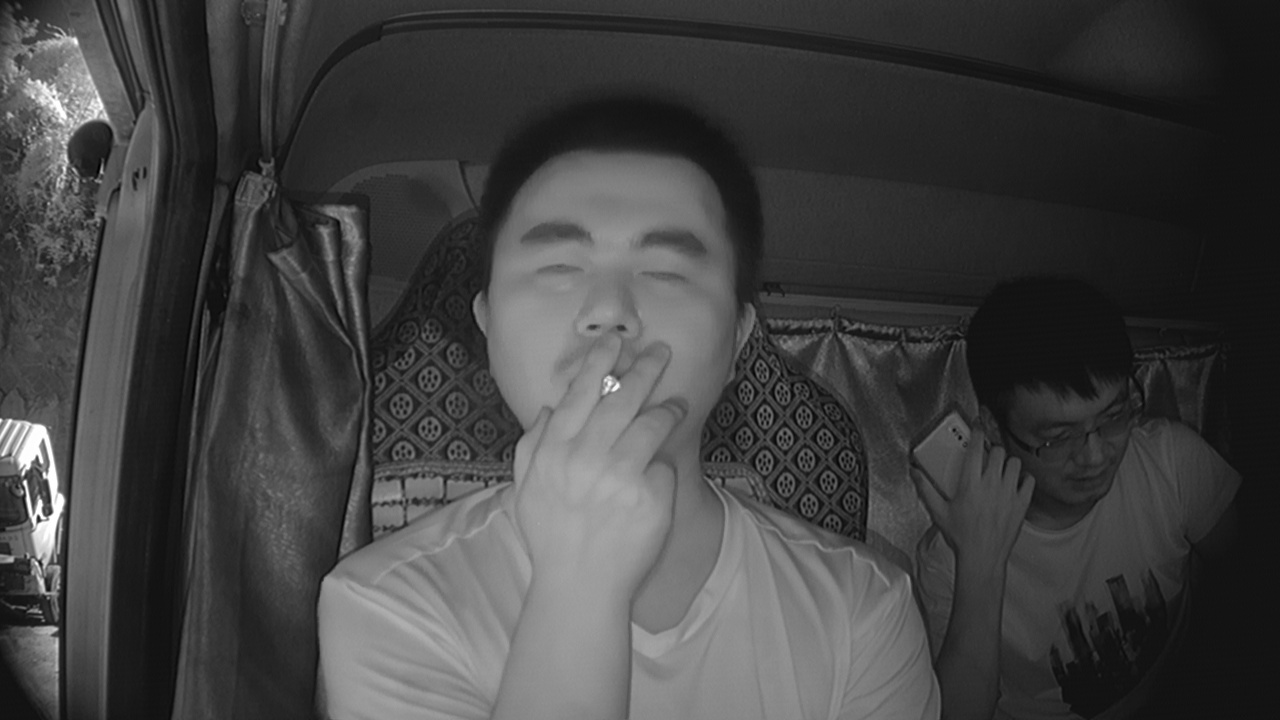hand: (520, 329, 677, 546)
